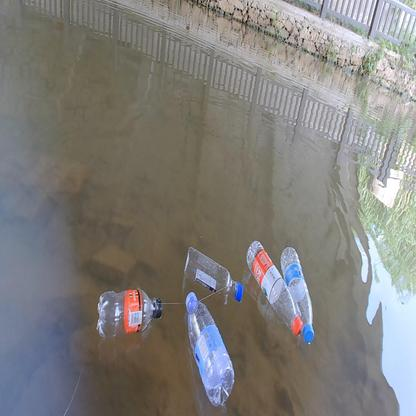plastic bottle: (184, 290, 235, 407), (247, 238, 303, 335), (184, 244, 244, 305), (281, 245, 314, 341), (96, 287, 160, 335)
